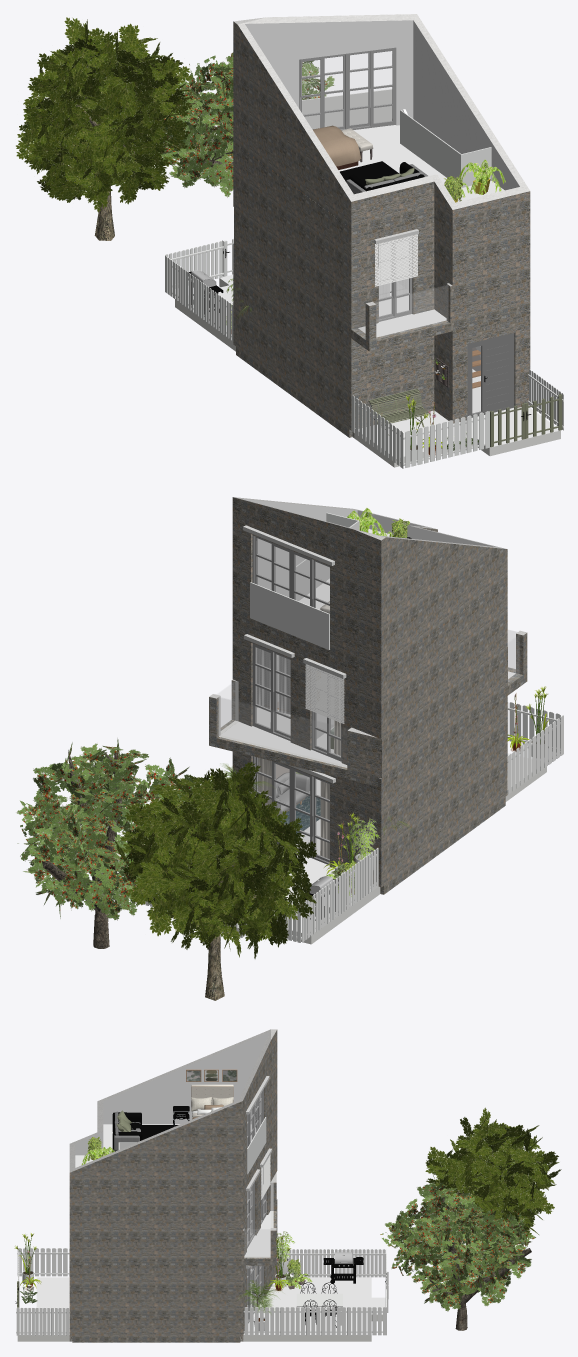
File: house_6.glb
3 renders of one model, top to bottom at view 1: azimuth 30°, elevation 25°; view 2: azimuth 150°, elevation 25°; view 3: azimuth 270°, elevation 25°, orthographic. The views are drawn at different scales.
Parts seen in each view (by area): view 1: Object_5, Object_62, Object_53, Object_27, Object_54, Object_86, Object_26, Object_40, Object_43, Object_2, Object_57, Object_50 (+6 smaller); view 2: Object_5, Object_62, Object_86, Object_54, Object_53, Object_43, Object_26, Object_50, Object_27, Object_87, Object_93, Object_34 (+8 smaller); view 3: Object_5, Object_86, Object_53, Object_62, Object_26, Object_27, Object_40, Object_43, Object_42, Object_32, Object_54, Object_87 (+6 smaller).
Part boxes in pixels (<box>): Object_5: <box>233,21,530,437</box>; Object_62: <box>16,17,203,212</box>; Object_53: <box>165,89,563,468</box>; Object_27: <box>245,20,519,190</box>; Object_54: <box>302,51,480,413</box>; Object_86: <box>158,52,334,197</box>; Object_26: <box>175,125,560,457</box>; Object_40: <box>234,14,529,305</box>; Object_43: <box>299,47,412,321</box>; Object_2: <box>365,167,562,447</box>; Object_57: <box>390,291,514,417</box>; Object_50: <box>374,229,418,286</box>; Object_5: <box>209,497,527,894</box>; Object_62: <box>114,762,316,958</box>; Object_86: <box>16,738,195,920</box>; Object_54: <box>217,539,519,859</box>; Object_53: <box>135,512,563,942</box>; Object_43: <box>252,535,341,865</box>; Object_26: <box>158,529,540,934</box>; Object_50: <box>243,525,346,783</box>; Object_27: <box>244,499,357,707</box>; Object_87: <box>42,750,182,948</box>; Object_93: <box>257,648,290,714</box>; Object_34: <box>256,510,495,738</box>; Object_5: <box>69,1030,277,1342</box>; Object_86: <box>380,1182,535,1311</box>; Object_53: <box>16,1107,388,1335</box>; Object_62: <box>425,1107,561,1247</box>; Object_26: <box>19,1124,385,1334</box>; Object_27: <box>103,1032,269,1126</box>; Object_40: <box>69,1029,276,1230</box>; Object_43: <box>247,1089,266,1323</box>; Object_42: <box>112,1106,363,1283</box>; Object_32: <box>17,1314,382,1341</box>; Object_54: <box>244,1095,270,1306</box>; Object_87: <box>401,1190,531,1330</box>.
Bounding box in the file's own units: 9.18 × 9.68 × 19.05.
Materials: 97 (70 with a texture image).
